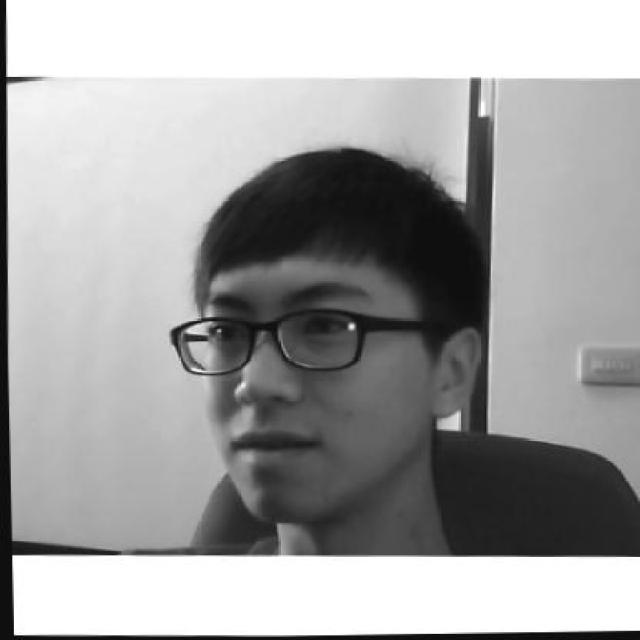attentif: (168, 145, 487, 528)
